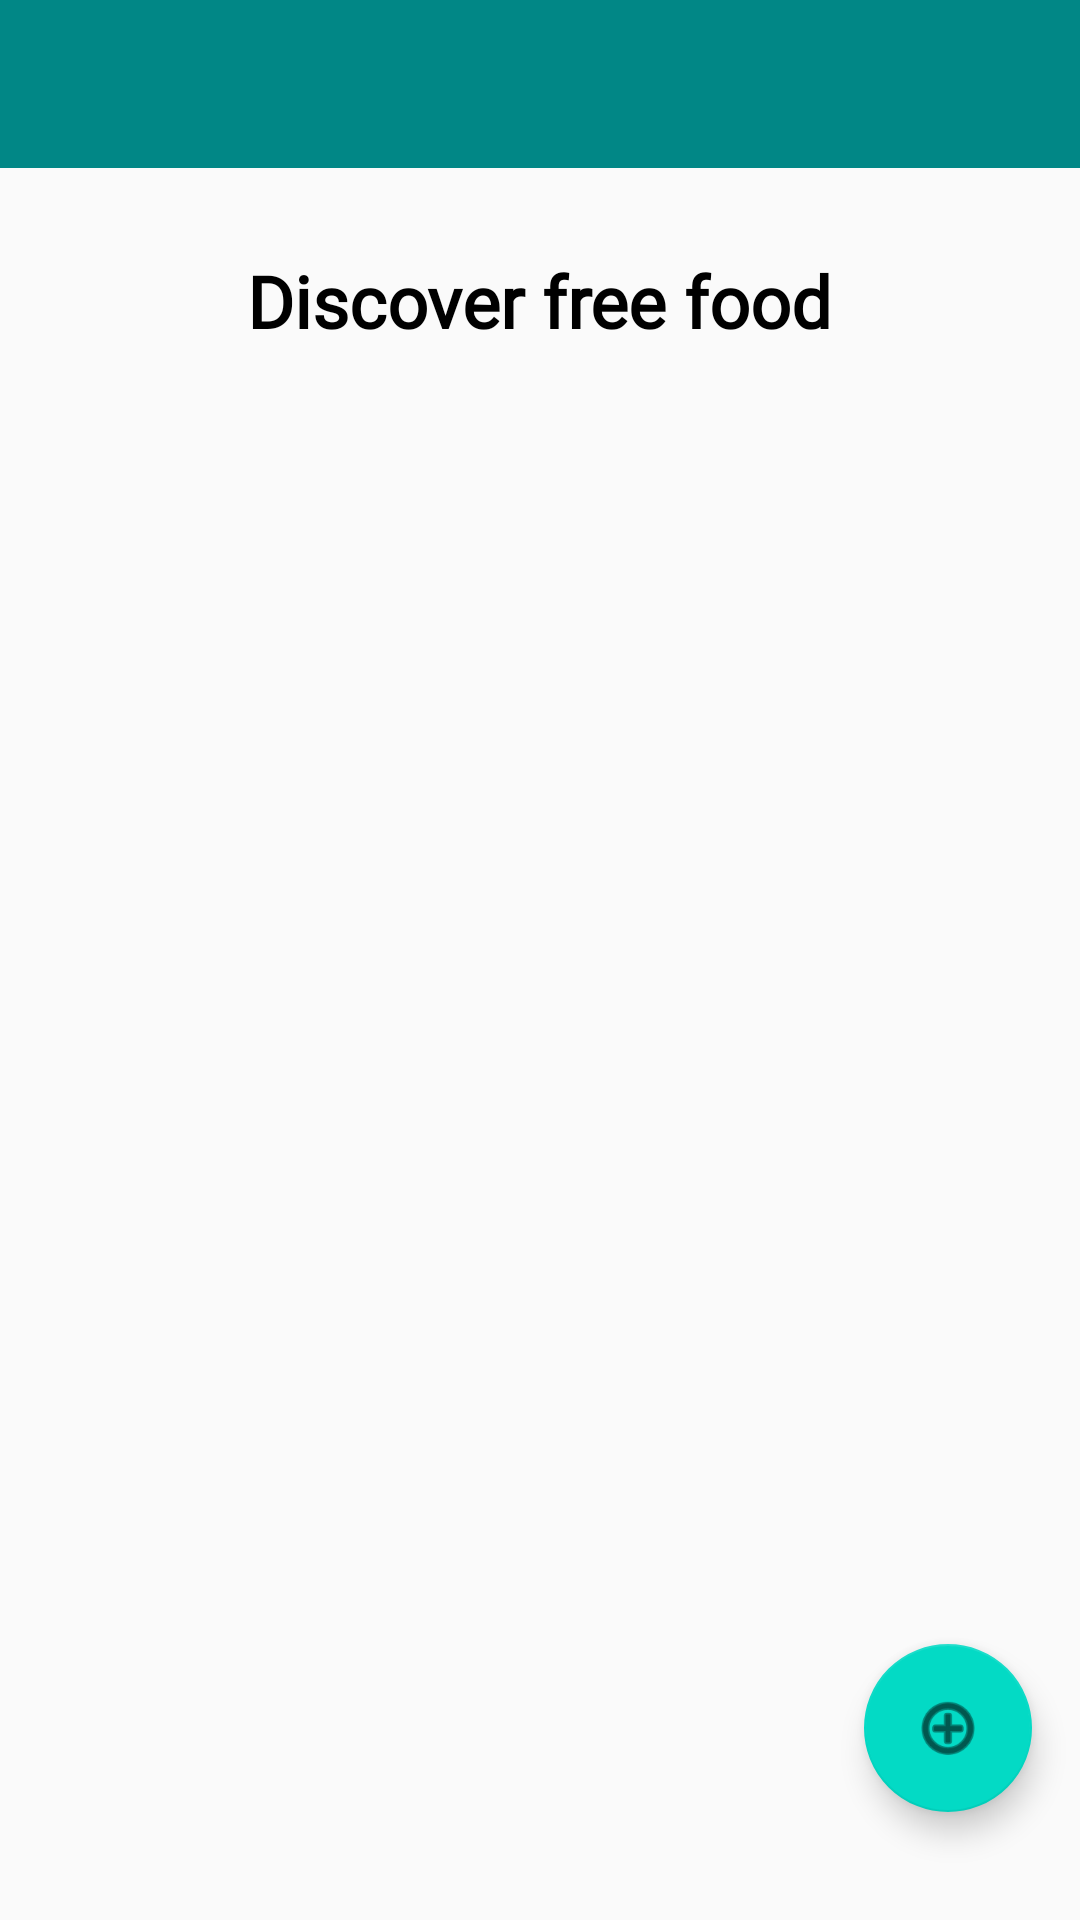

Named icons in this screenshot (1080px×1920px) and their centers, (x,y):
add: (948,1728)
